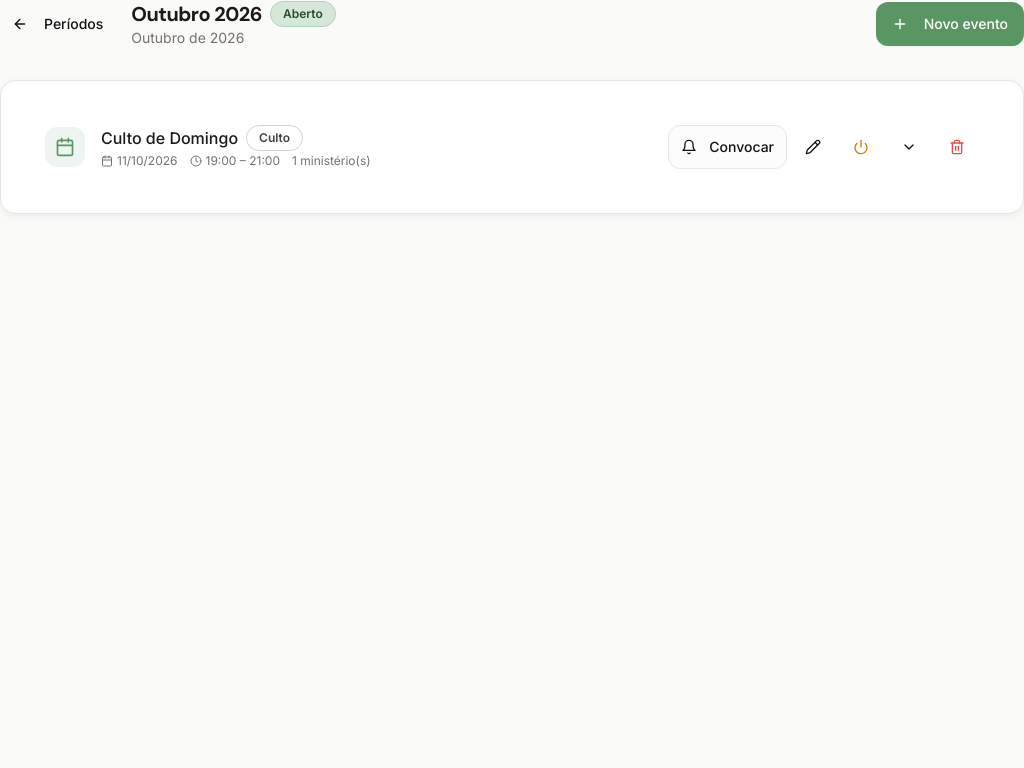
EscalasPeriodoDetalhe — "Selecionar todos" no modal Convocar › estado intermediário: só um marcado deixa "Selecionar todos" em mixed
The width and height of the screenshot is (1024, 768).
Expected: the text "Culto de Domingo" is shown, [101, 126, 238, 150]
Click the button "Convocar" at (728, 147), box [668, 125, 787, 169]
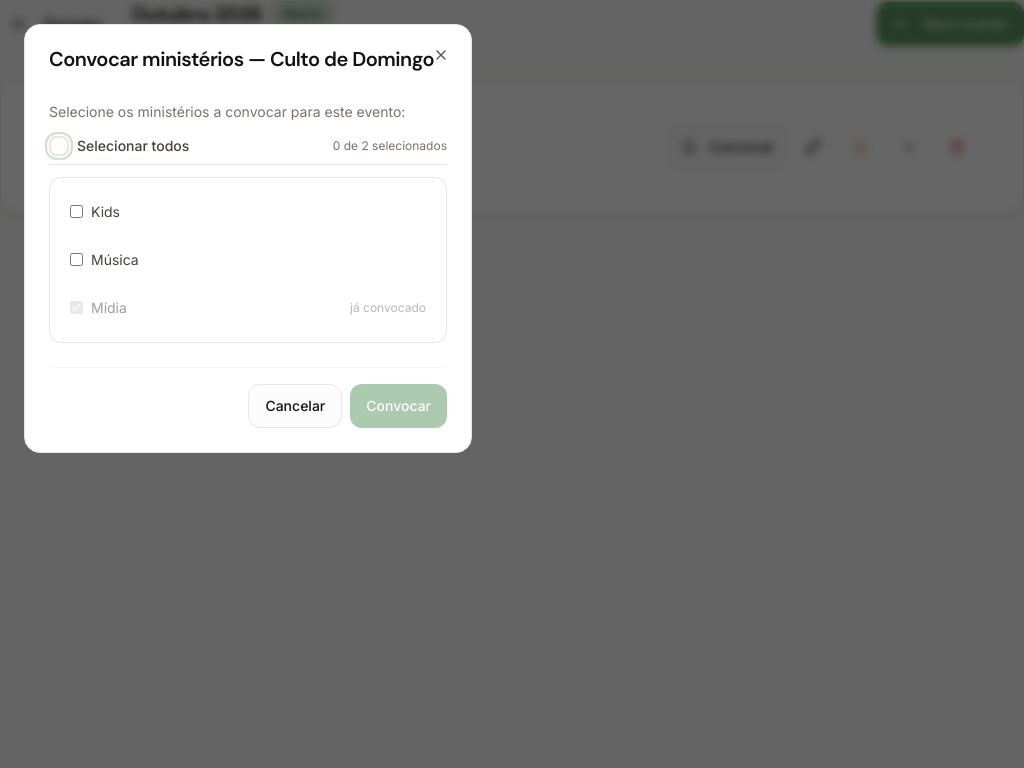
Result: the heading "Convocar ministérios — Culto de Domingo" is shown at [49, 49, 447, 69]
Click the checkbox labelled "Kids" at (76, 212), box [70, 205, 83, 218]
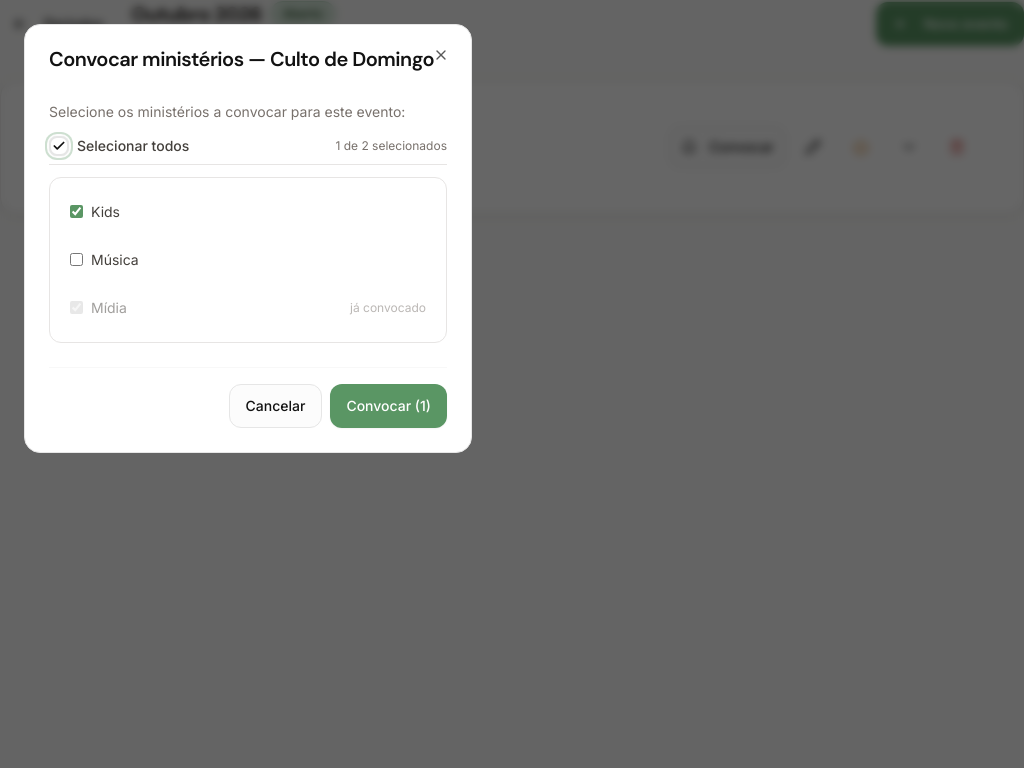
Result: the text "1 de 2 selecionados" is shown at [335, 138, 447, 154]
